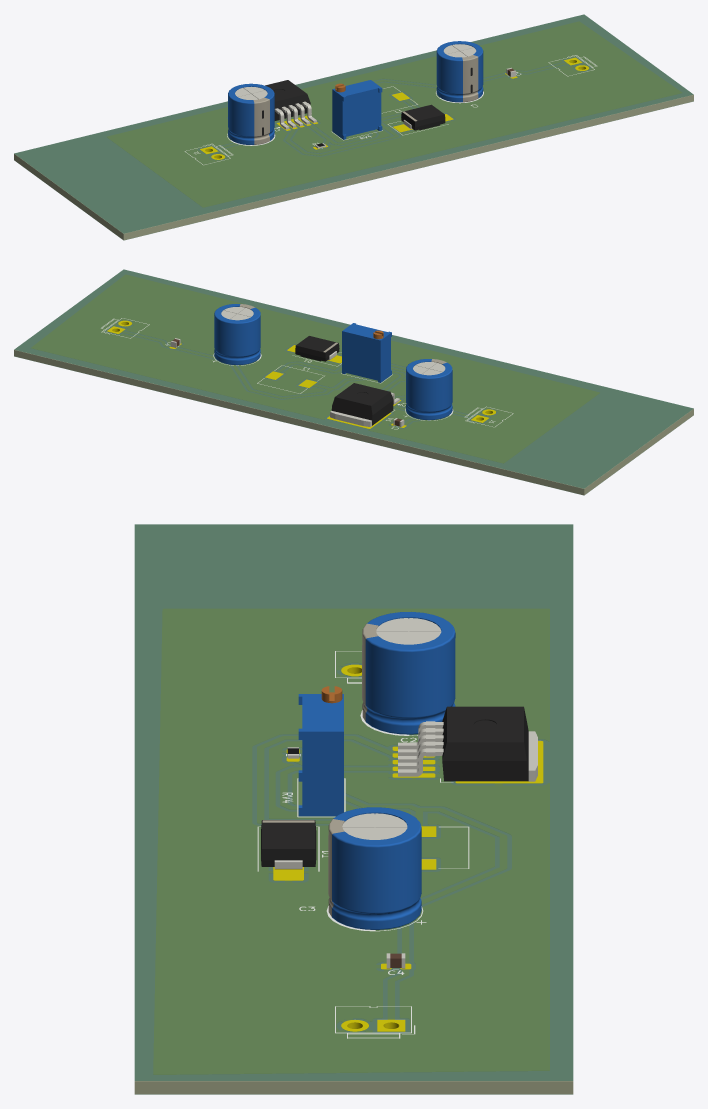
Rendered from buck_design2596.glb.
3 views of the same model, one above another, from view 1: azimuth 30°, elevation 25°; view 2: azimuth 150°, elevation 25°; view 3: azimuth 270°, elevation 25° (orthographic). The views are drawn at different scales.
Visible parts, largest first — view 1: =>[0:1:1:24], =>[0:1:1:21], =>[0:1:1:26], =>[0:1:1:3] (×2), =>[0:1:1:20], =>[0:1:1:11], =>[0:1:1:9], =>[0:1:1:22], =>[0:1:1:25]; view 2: =>[0:1:1:24], =>[0:1:1:21], =>[0:1:1:26], =>[0:1:1:3] (×2), =>[0:1:1:20], =>[0:1:1:11], =>[0:1:1:9], =>[0:1:1:22], =>[0:1:1:25]; view 3: =>[0:1:1:24], =>[0:1:1:21], =>[0:1:1:26], =>[0:1:1:3] (×2), =>[0:1:1:11], =>[0:1:1:20], =>[0:1:1:9], =>[0:1:1:22].
Part boxes in pixels (x1,y1,x2,y2): =>[0:1:1:24]: [14, 14, 693, 233]; =>[0:1:1:21]: [107, 22, 681, 206]; =>[0:1:1:26]: [14, 15, 693, 240]; =>[0:1:1:3] (×2): [228, 41, 483, 144]; =>[0:1:1:20]: [332, 80, 382, 139]; =>[0:1:1:11]: [265, 80, 316, 129]; =>[0:1:1:9]: [401, 104, 445, 130]; =>[0:1:1:22]: [184, 55, 597, 165]; =>[0:1:1:25]: [14, 101, 693, 240]; =>[0:1:1:24]: [14, 269, 693, 488]; =>[0:1:1:21]: [32, 275, 598, 462]; =>[0:1:1:26]: [14, 270, 693, 495]; =>[0:1:1:3] (×2): [214, 304, 452, 420]; =>[0:1:1:20]: [342, 323, 391, 382]; =>[0:1:1:11]: [330, 383, 399, 426]; =>[0:1:1:9]: [295, 336, 339, 361]; =>[0:1:1:22]: [101, 318, 513, 429]; =>[0:1:1:25]: [14, 356, 693, 495]; =>[0:1:1:24]: [134, 524, 573, 1080]; =>[0:1:1:21]: [154, 609, 549, 1074]; =>[0:1:1:26]: [134, 525, 573, 1094]; =>[0:1:1:3] (×2): [328, 612, 455, 929]; =>[0:1:1:11]: [398, 706, 537, 781]; =>[0:1:1:20]: [298, 686, 343, 816]; =>[0:1:1:9]: [261, 820, 316, 869]; =>[0:1:1:22]: [257, 651, 469, 1038].
Size of the model in its own units: 0.141 by 0.0171 by 0.047.
